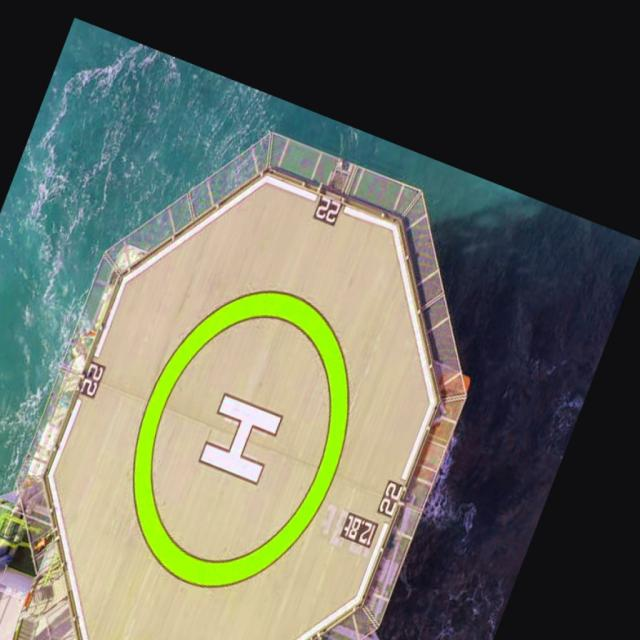helipad: (126, 285, 354, 593)
